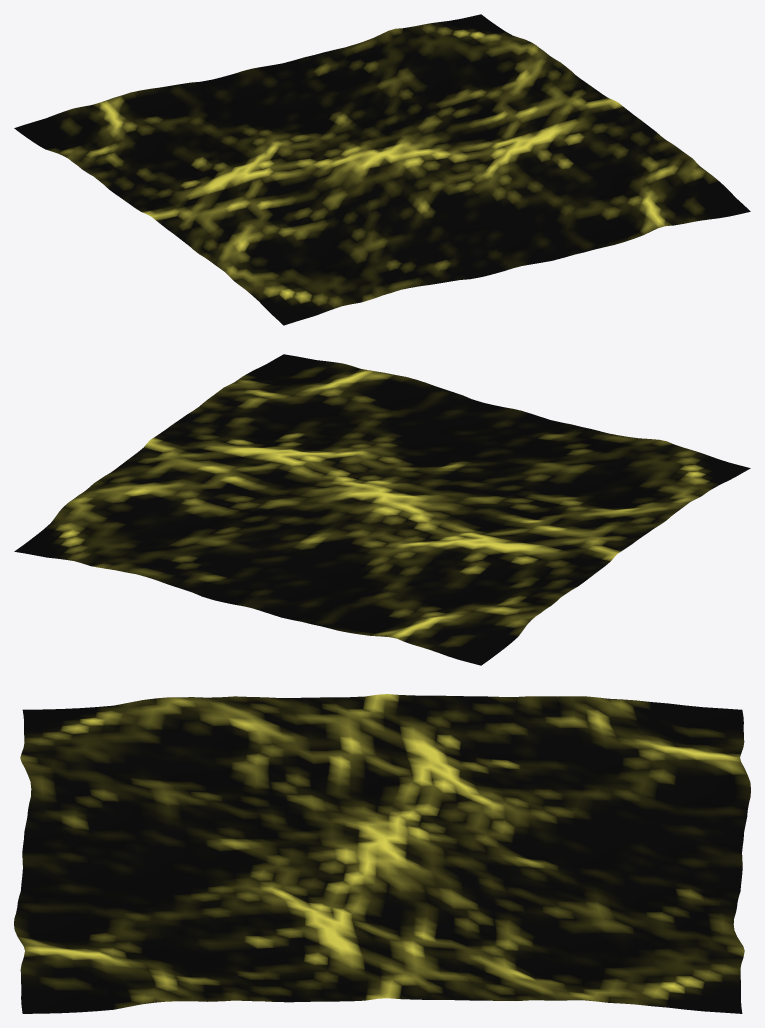
File: abura.fbx
3 renders of one model, top to bottom at view 1: azimuth 30°, elevation 25°; view 2: azimuth 150°, elevation 25°; view 3: azimuth 270°, elevation 25°, orthographic. The views are drawn at different scales.
Parts seen in each view (by area): view 1: Cube; view 2: Cube; view 3: Cube.
Boxes of the visible parts, x1,y1,x2,y2 form: Cube: (14, 14, 750, 325); Cube: (14, 354, 750, 665); Cube: (14, 694, 750, 1013).
Size of the model in its own units: 5059 by 166 by 5120.
